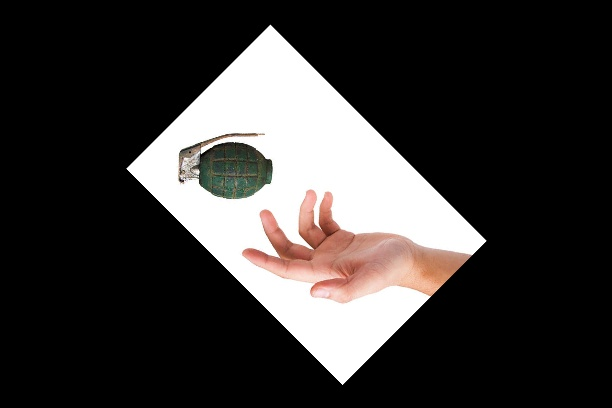e1: (176, 131, 274, 199)
